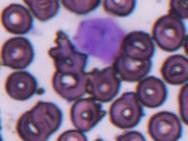L: (75, 15, 128, 65)
